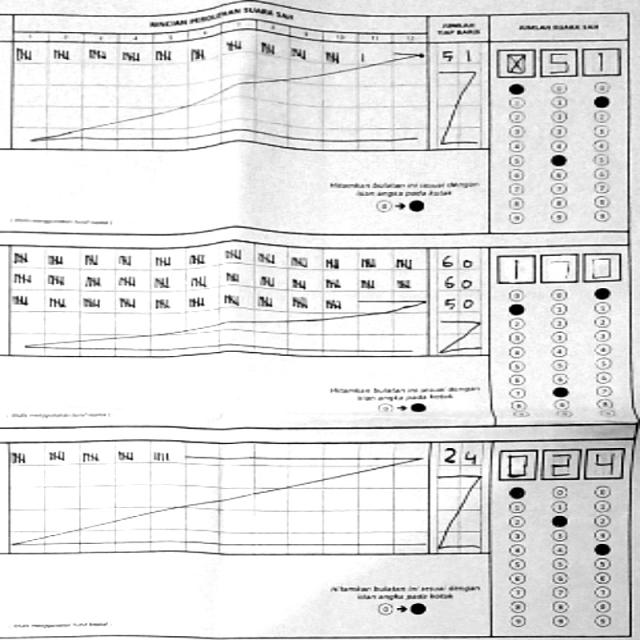Suara: (496, 443, 629, 482), (489, 246, 626, 283), (496, 50, 622, 78)
